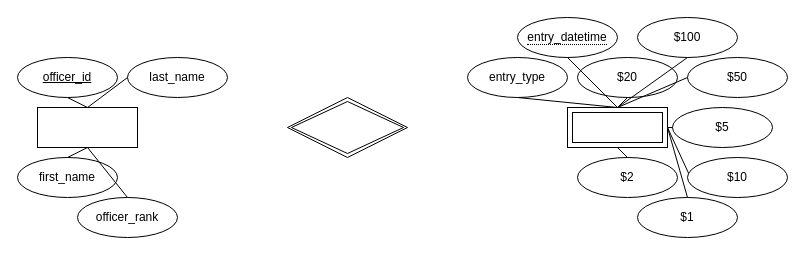
The diagram is 805 pixels wide and 255 high, and some of its shapes have lost their labels. Here are the shapes that lost their labels. From the top down, the centre of each, then its label:
the point at 87,127: officer
the point at 347,127: makes
the point at 617,127: usd_entry
